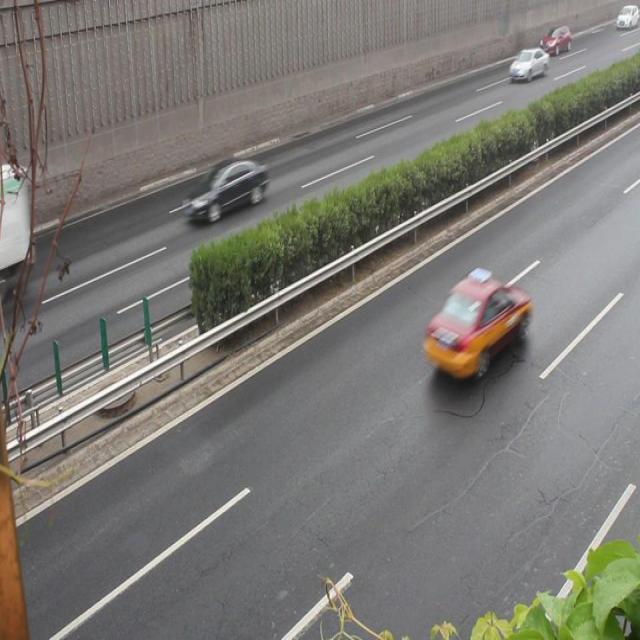car: (424, 269, 528, 379), (183, 157, 267, 223), (509, 47, 547, 83)
